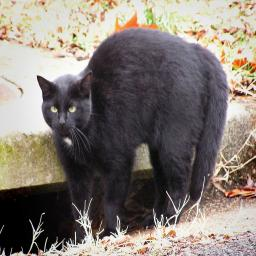catnose: (58, 113, 66, 124)
